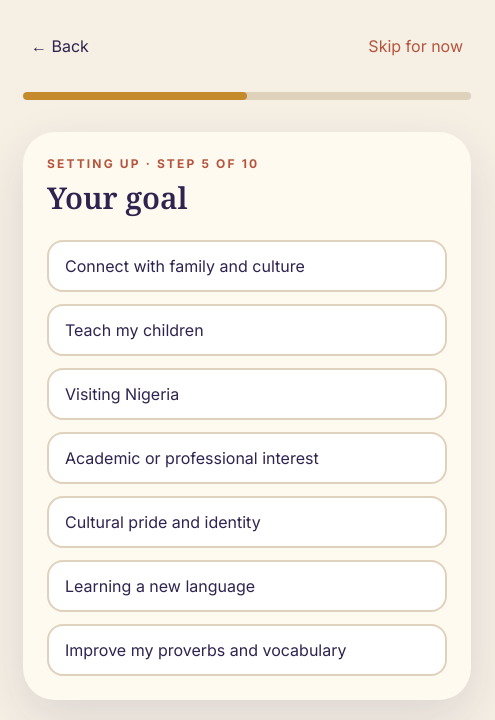
onboarding › shows retry and does not advance after a failed patch
Click the button "Visiting Nigeria": (122, 394) x1=47 y1=368 x2=447 y2=420
(page scrolled)
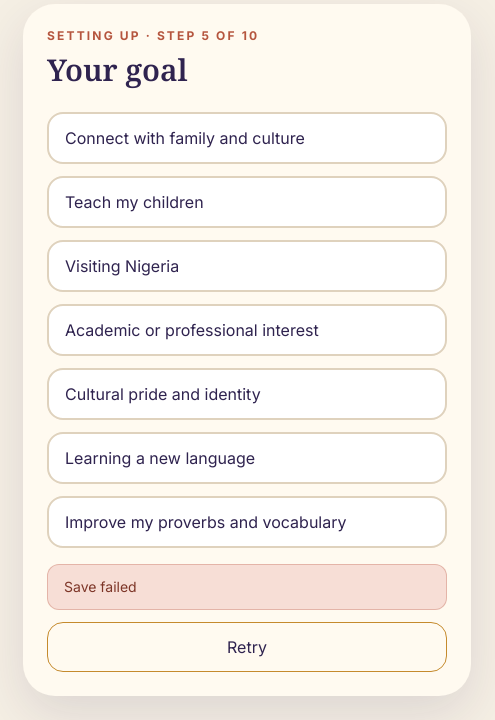
Expected: the message reads "Save failed", x1=64 y1=578 x2=137 y2=595
Expected: the button "Retry" is shown, x1=47 y1=622 x2=447 y2=672
